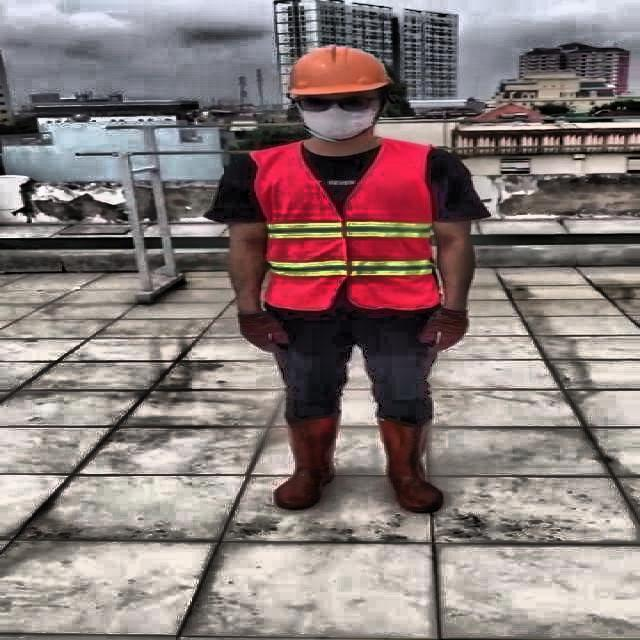safety_helmet: (281, 42, 393, 96)
safety_jacket: (256, 140, 441, 310)
